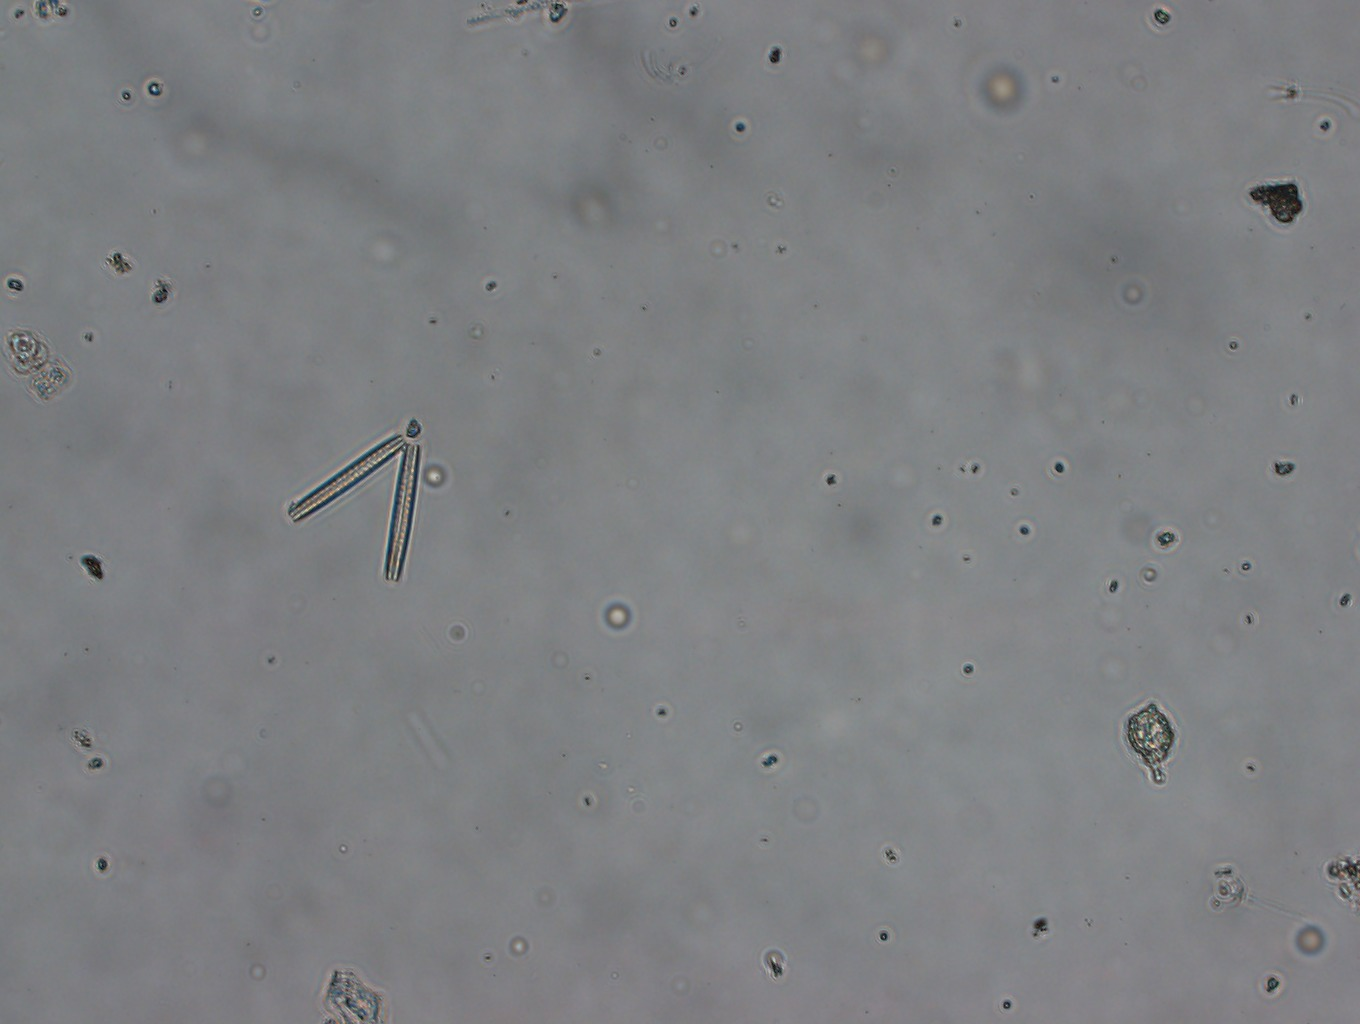thalassionema nitzschioides: (278, 417, 434, 591)
